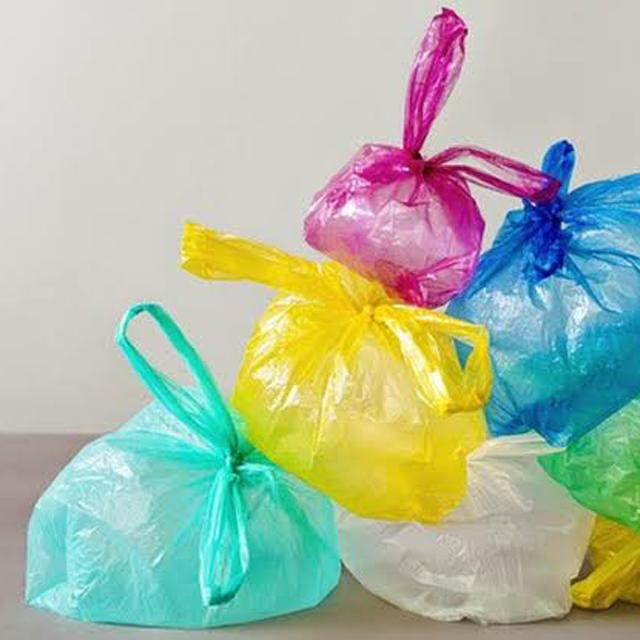Single-layer Plastic: (25, 304, 340, 627), (182, 225, 491, 522), (304, 8, 560, 307), (448, 141, 640, 446), (338, 436, 594, 622)
